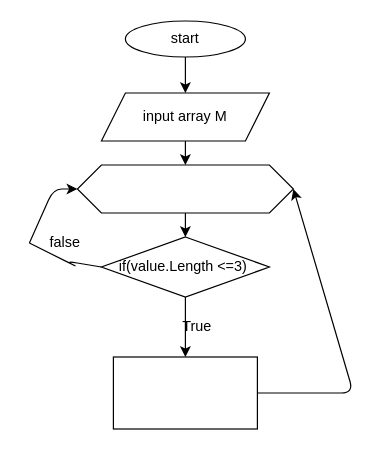
The diagram is 384 pixels wide and 450 high, and some of its shapes have lost their labels. The centre of each missing label's shape, as x and y in pixels:
foreach( var value in M): the point at 184,188
result[realSize] realSize++: the point at 184,392
